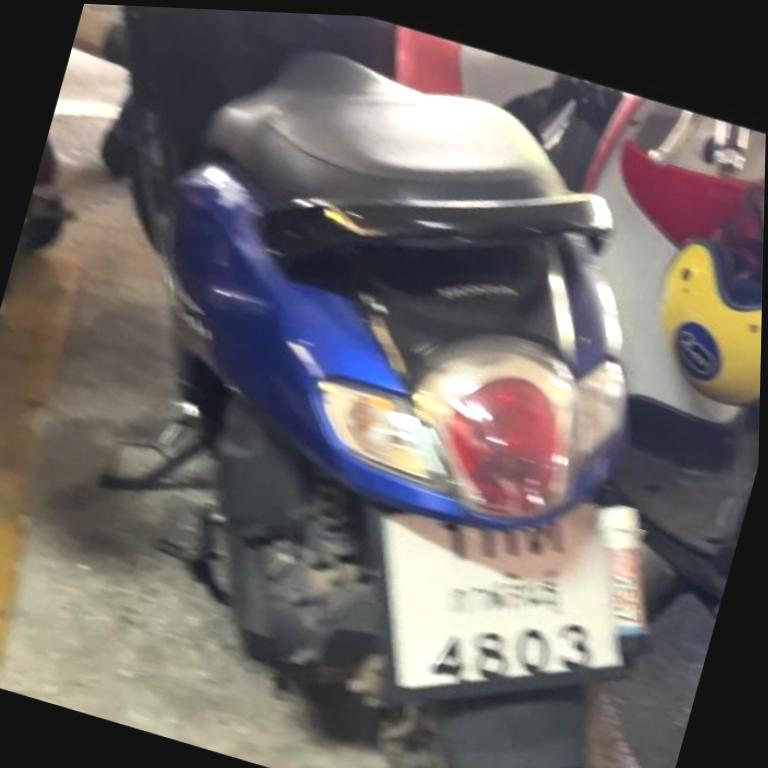license plate: (323, 439, 687, 755)
